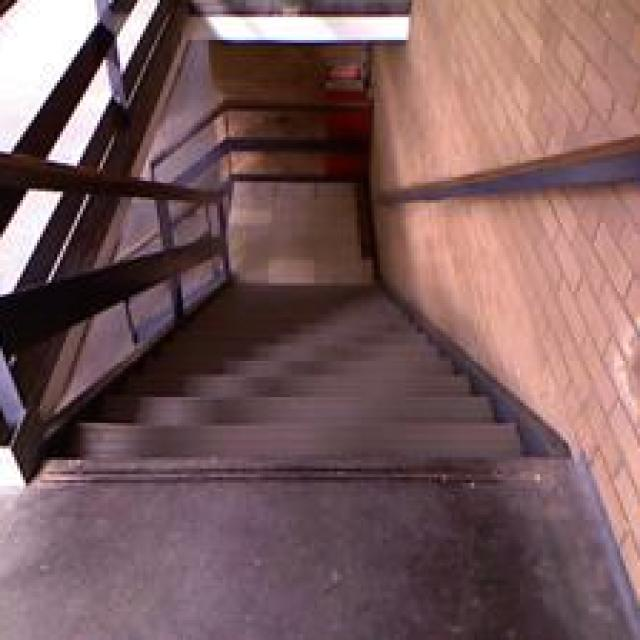downstair: (47, 344, 564, 515)
